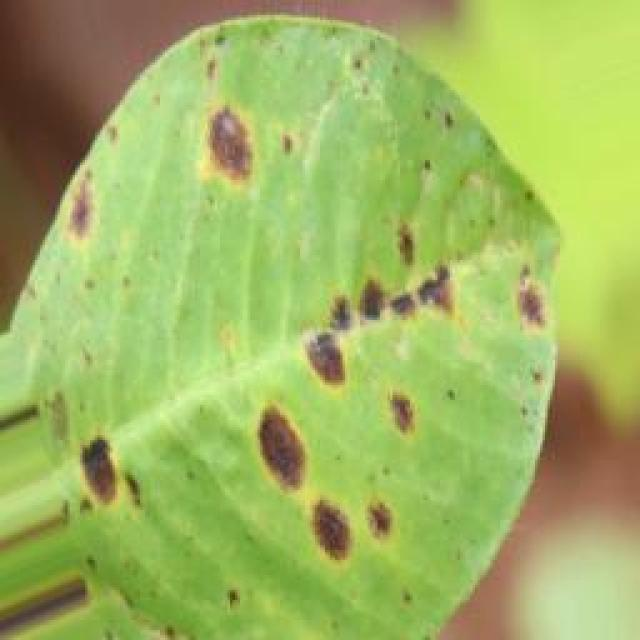Yellowish: (15, 0, 548, 635)
